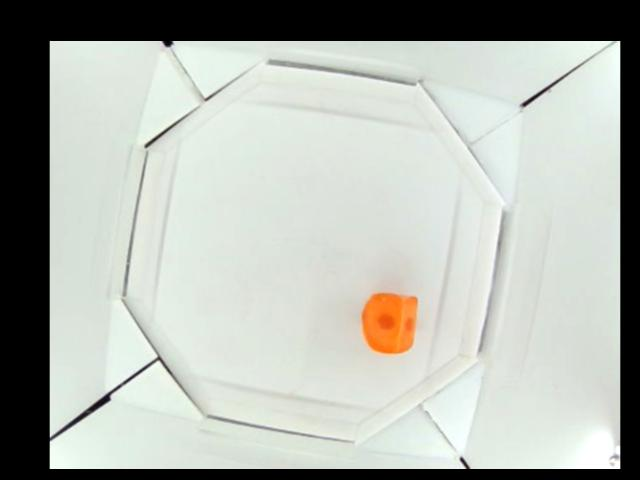Carrot: (363, 291, 418, 353)
